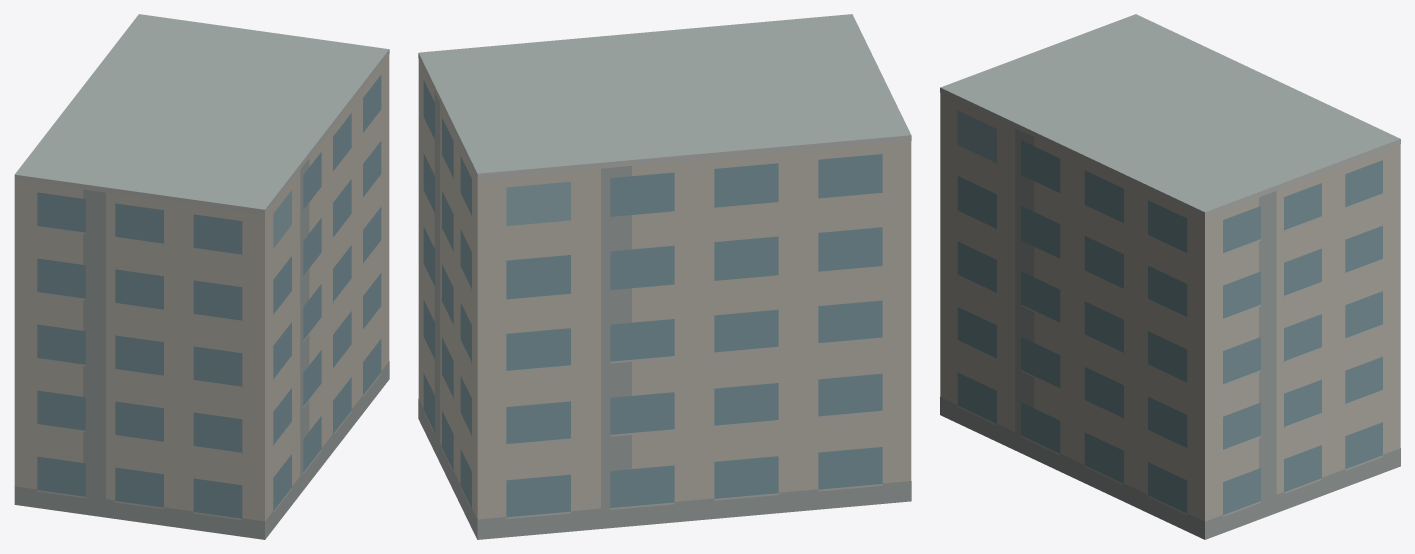
Rendered from survey-upis-32936150.glb.
The picture shows the model from 3 angles, left to right: view 1: azimuth 30°, elevation 25°; view 2: azimuth 150°, elevation 25°; view 3: azimuth 270°, elevation 25°; orthographic projection. The views are drawn at different scales.
Visible parts, largest first — view 1: survey-upis-32936150.tmp; view 2: survey-upis-32936150.tmp; view 3: survey-upis-32936150.tmp.
Boxes of the visible parts, x1,y1,x2,y2 form: survey-upis-32936150.tmp: (14, 14, 389, 539); survey-upis-32936150.tmp: (418, 14, 911, 539); survey-upis-32936150.tmp: (940, 14, 1400, 539).
Size of the model in its own units: 19.84 by 15.27 by 19.46.
